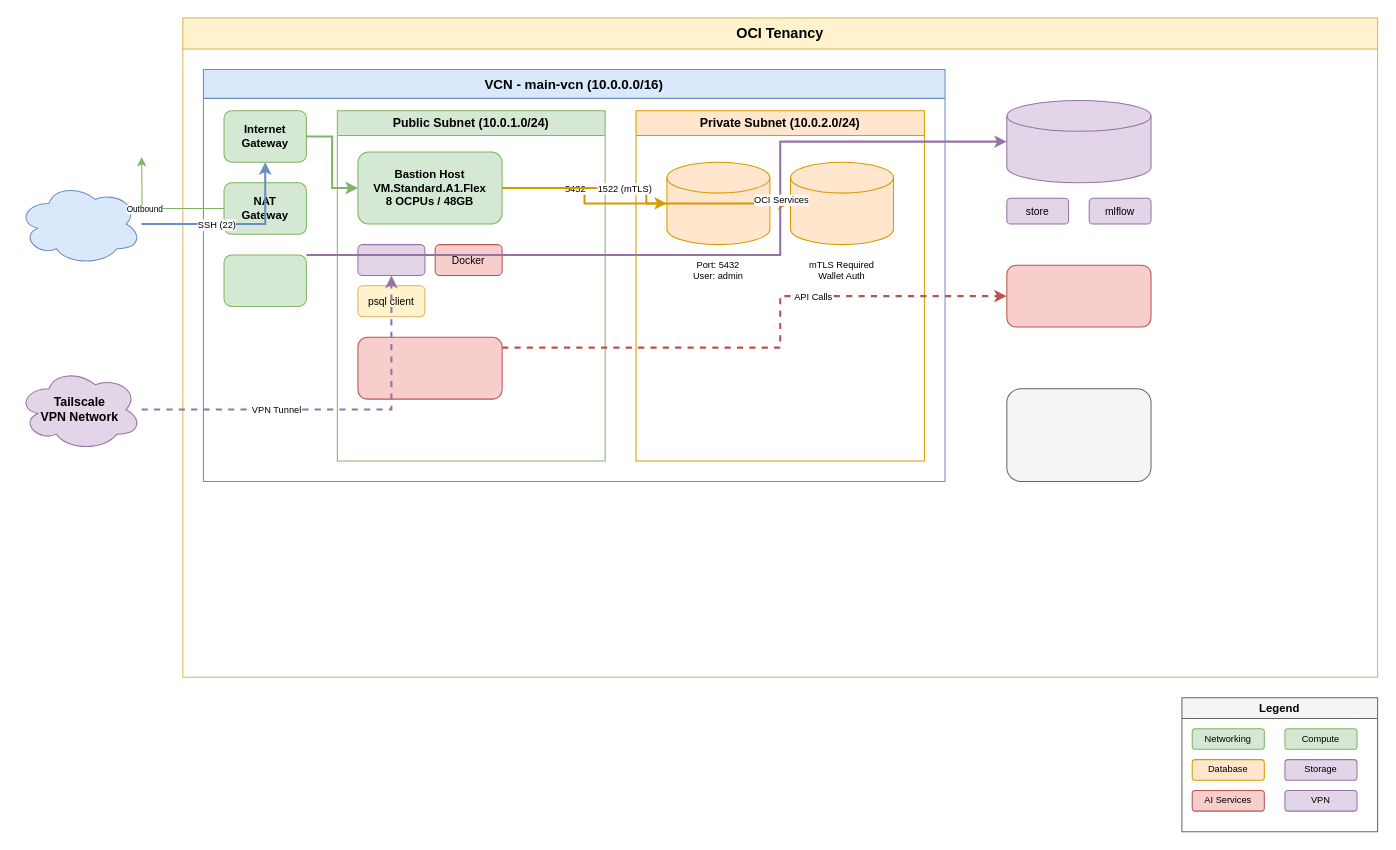
Some shapes in this 1396 by 850 pixel diagram are drawn without their labels. The shapes that lost their labels are listed below. From the top down, each one's centre as x and y in pixels, then its label:
(x=1078, y=141): Object Storage (S3-Compatible)
(x=79, y=223): Internet
(x=718, y=203): PostgreSQL DB System OCI Optimized
(x=841, y=203): Autonomous DB 23ai Vector Search
(x=264, y=280): Service Gateway
(x=391, y=260): Tailscale
(x=1078, y=295): OCI Generative AI Service
(x=429, y=367): Application Container (FastAPI + React) Port 8000
(x=1078, y=435): Security: - Private Endpoint DBs - mTLS for ADB - NSG Rules - No Public Access
